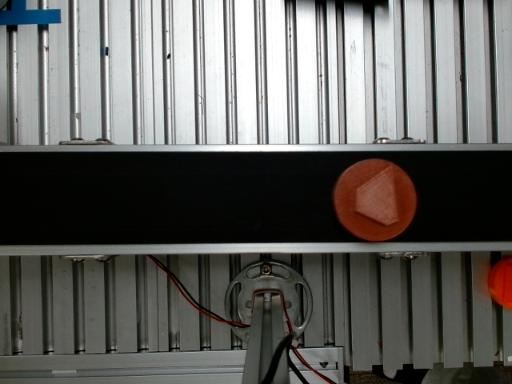Brown_Waper: (333, 158, 417, 241)
Not_Square: (355, 163, 399, 226)
